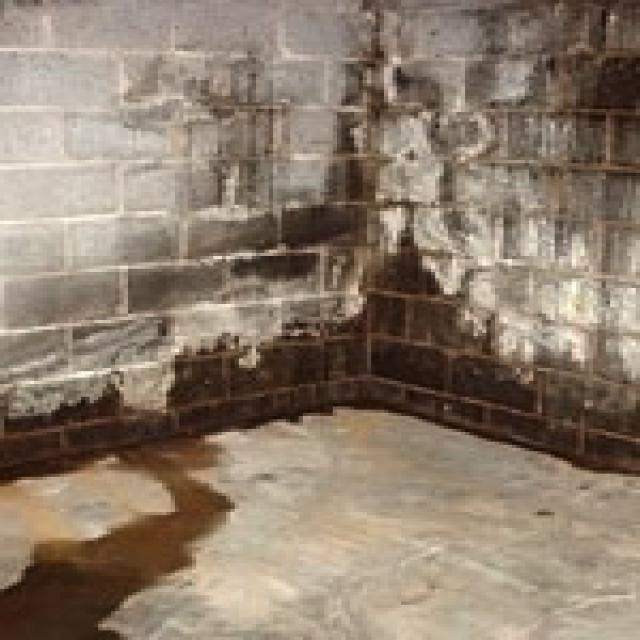Water_Leakage: (2, 16, 631, 595)
